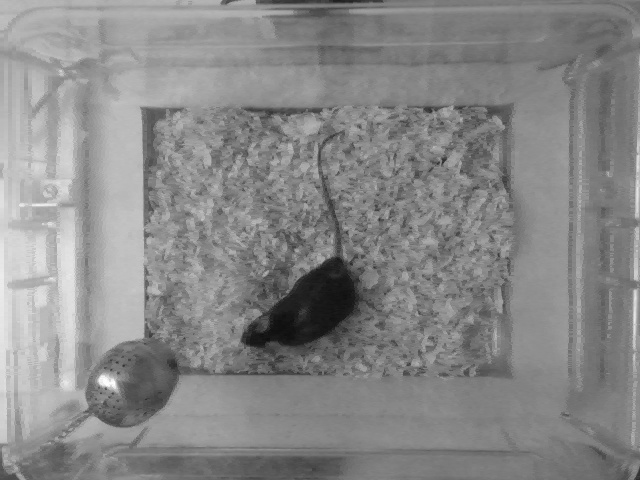mice: (239, 126, 359, 352)
